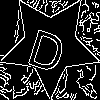D: (25, 19, 71, 74)
